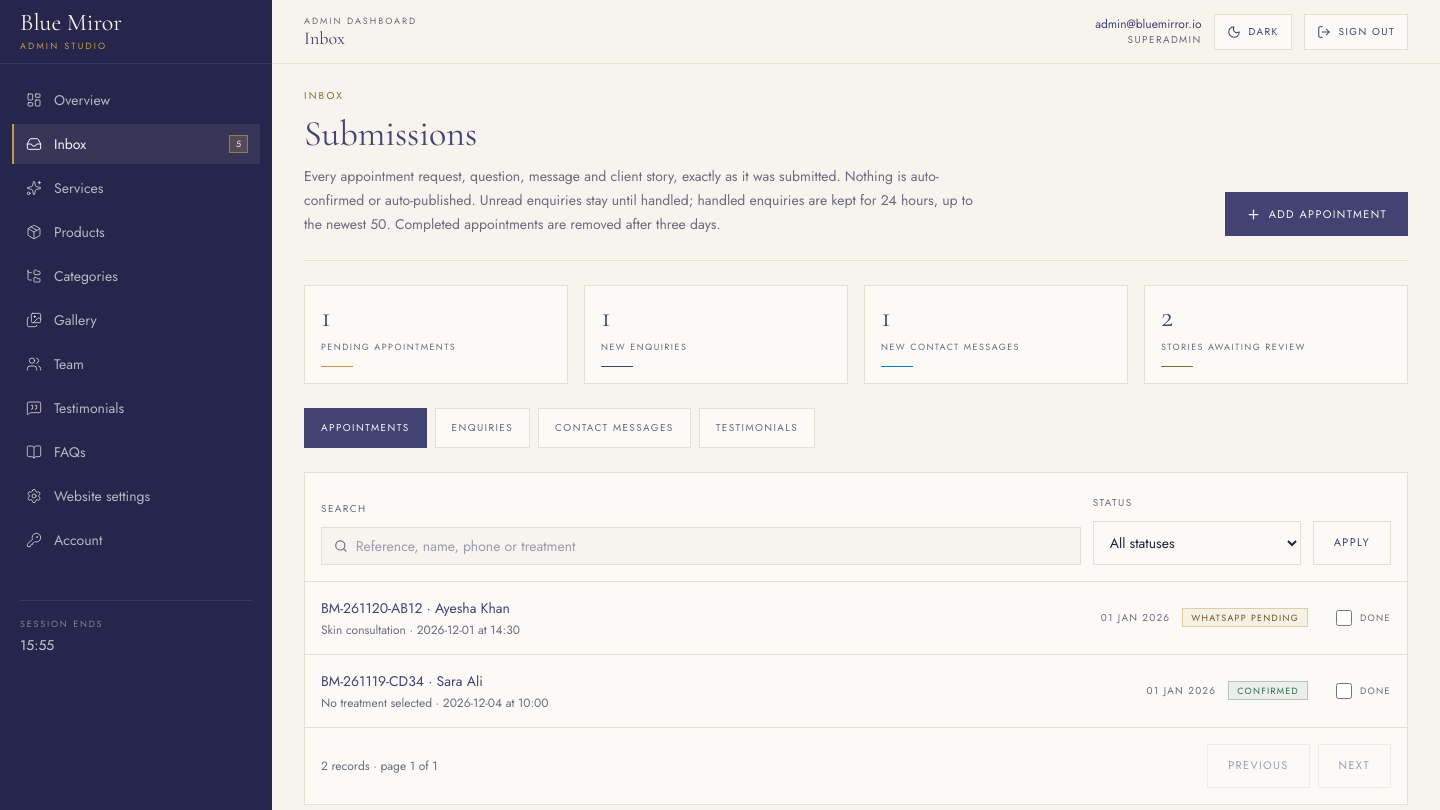
Test: Inbox page › does not render a WhatsApp handoff and offers a delete action
The width and height of the screenshot is (1440, 810).
Click the text "BM-261120-AB12 · Ayesha Khan" at x=420, y=608, box x1=321 y1=598 x2=520 y2=618
(page scrolled)
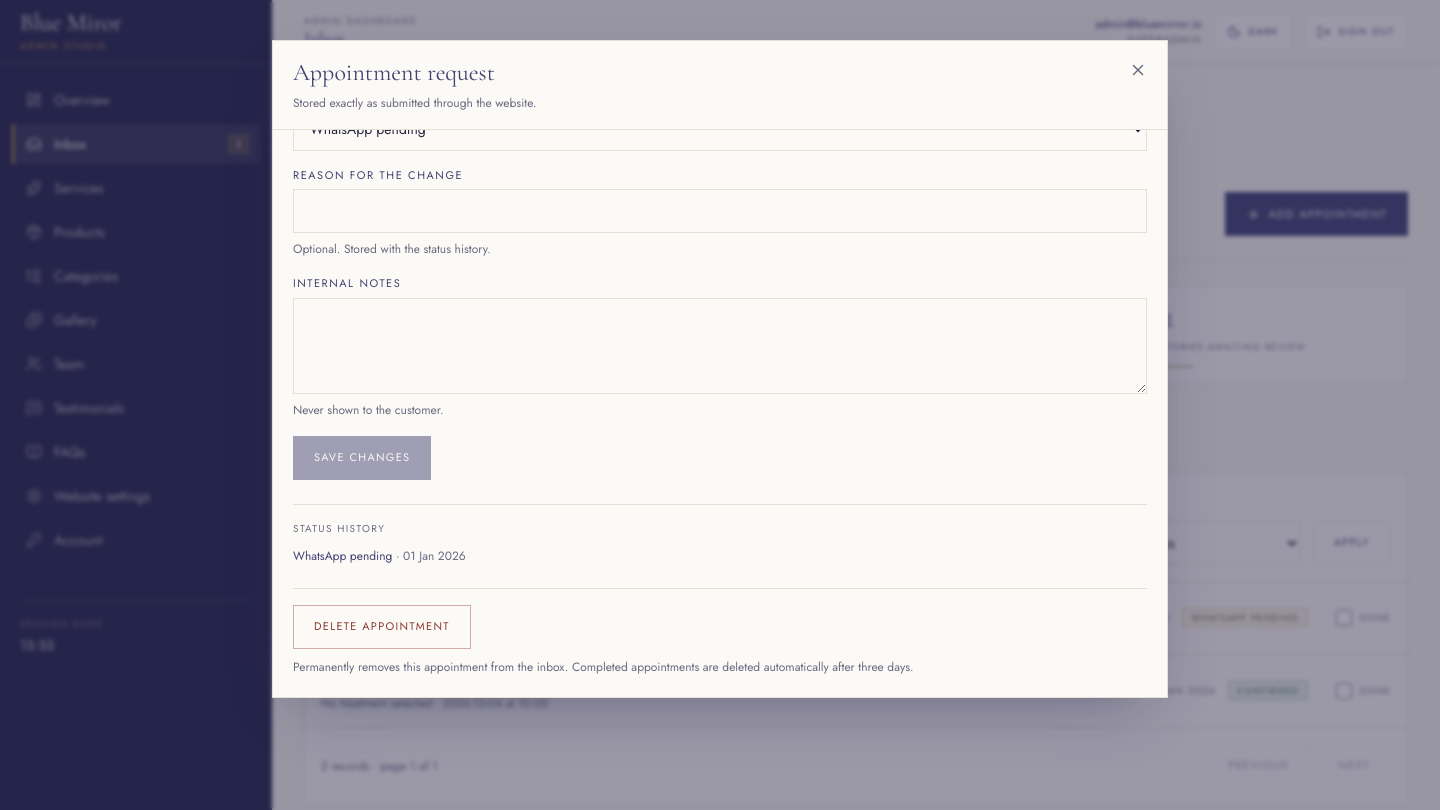
Now the button "Delete appointment" is shown, box x1=293 y1=604 x2=471 y2=648
